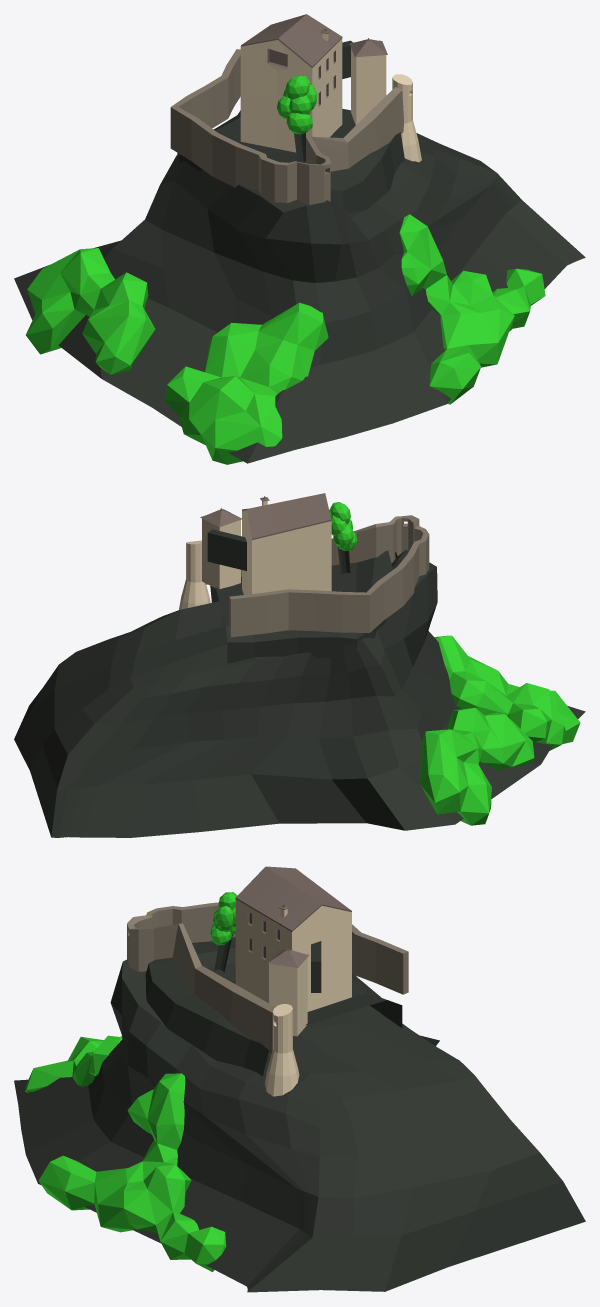
Rendered from citadelle.fbx.
3 views of the same model, one above another, from view 1: azimuth 30°, elevation 25°; view 2: azimuth 150°, elevation 25°; view 3: azimuth 270°, elevation 25° (orthographic). The views are drawn at different scales.
Parts seen in each view (by area): view 1: Cube.001; view 2: Cube.001; view 3: Cube.001.
Boxes of the visible parts, x1,y1,x2,y2 form: Cube.001: (14,14,585,464); Cube.001: (14,493,585,837); Cube.001: (14,866,585,1292).
Size of the model in its own units: 114 by 66.13 by 111.
